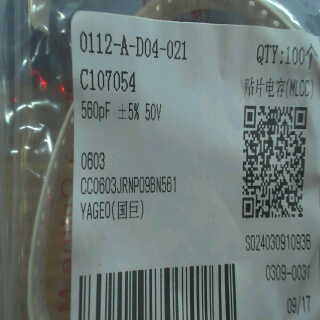560pF: (79, 98, 114, 124)
